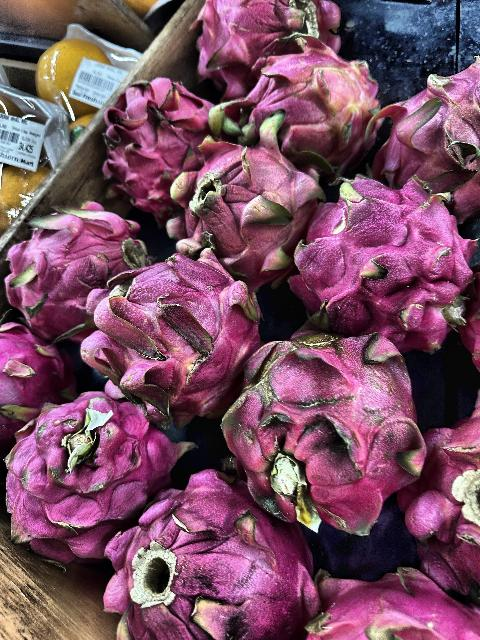buah-naga-belum-matang: (220, 41, 376, 167), (168, 144, 310, 274), (380, 66, 480, 210)
buah-naga-matang: (220, 326, 424, 522), (108, 472, 312, 640), (300, 180, 472, 344), (0, 400, 172, 560), (88, 252, 252, 416), (2, 207, 136, 317), (106, 80, 212, 206), (308, 566, 480, 640), (420, 410, 480, 602), (203, 1, 347, 74), (1, 315, 66, 465)
